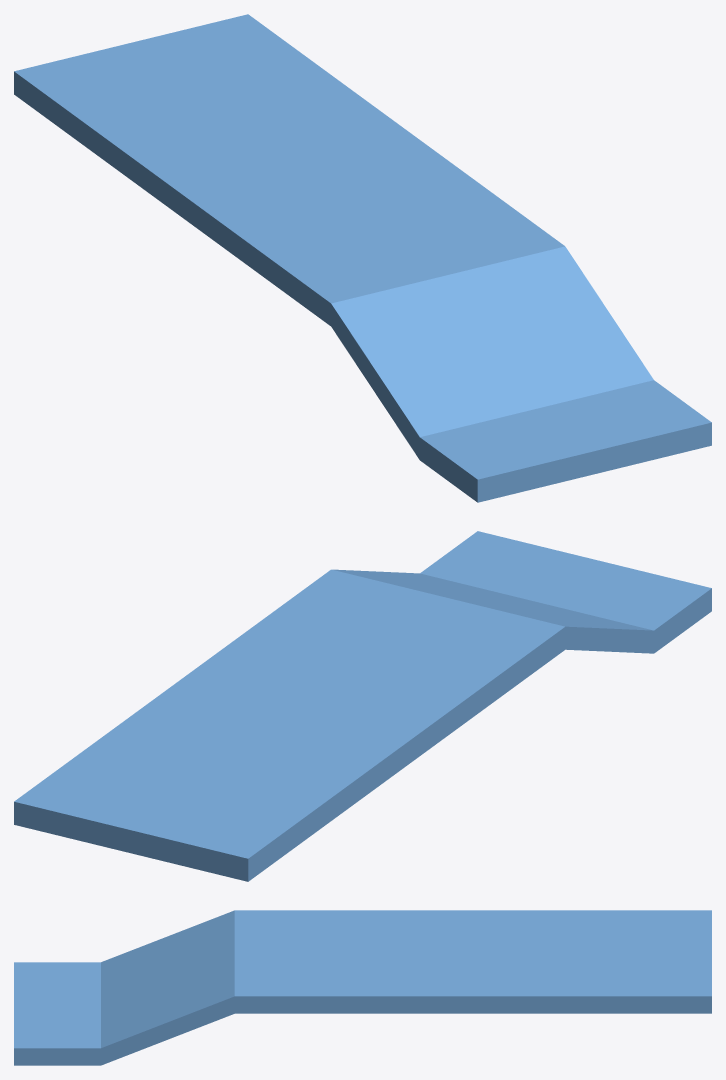
Rendered from springboard.glb.
3 views of the same model, one above another, from view 1: azimuth 30°, elevation 25°; view 2: azimuth 150°, elevation 25°; view 3: azimuth 270°, elevation 25° (orthographic). The views are drawn at different scales.
Parts seen in each view (by area): view 1: springboard; view 2: springboard; view 3: springboard.
Boxes of the visible parts, x1,y1,x2,y2 form: springboard: (14, 14, 711, 502); springboard: (14, 531, 711, 881); springboard: (14, 910, 711, 1065).
Size of the model in its own units: 2 by 0.7504 by 6.86.
